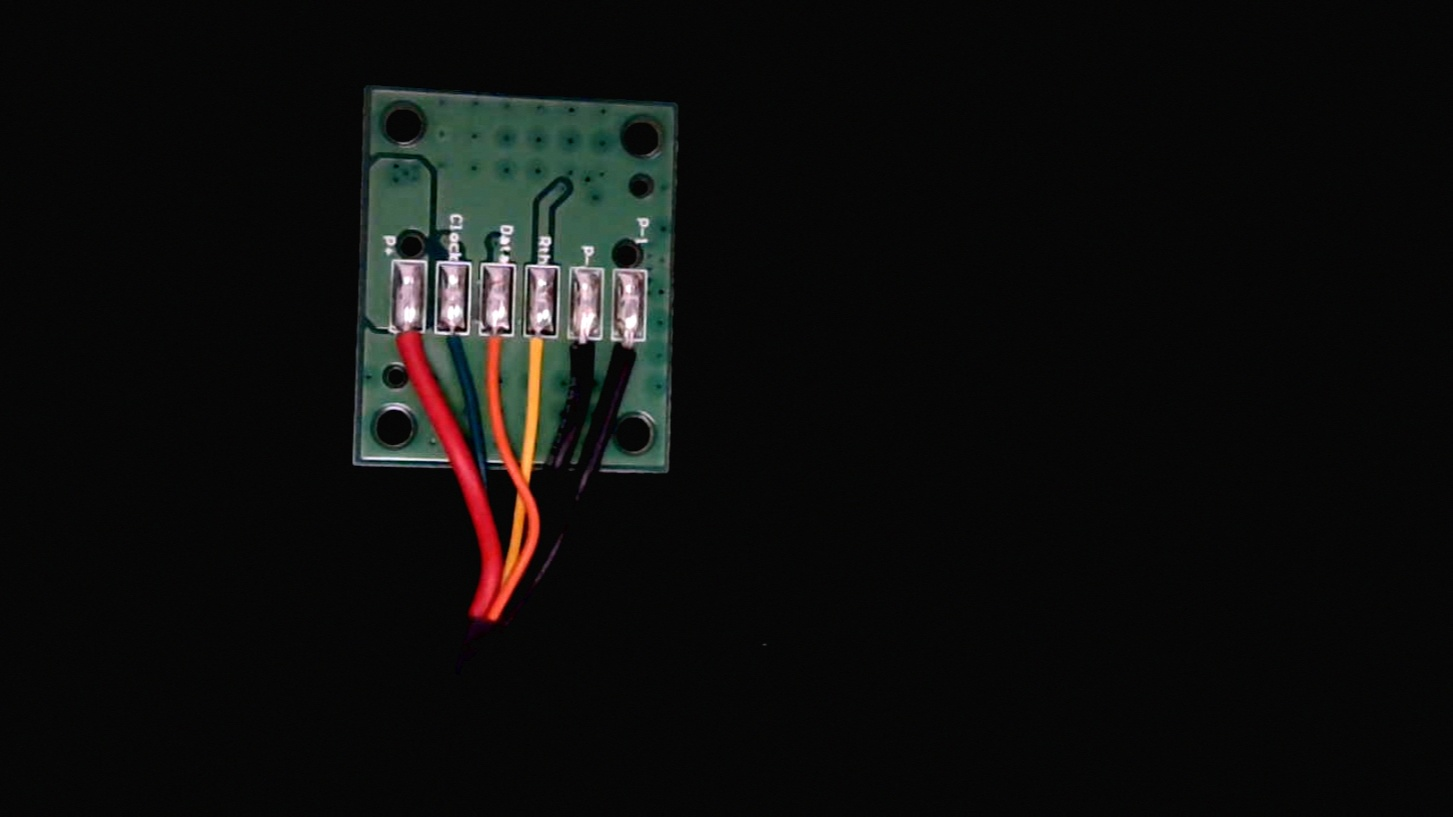Black: (566, 320, 603, 393)
Black1: (607, 320, 647, 399)
Green: (435, 315, 474, 381)
Orange: (478, 318, 510, 388)
Red: (390, 317, 428, 380)
Yellow: (523, 318, 558, 390)
